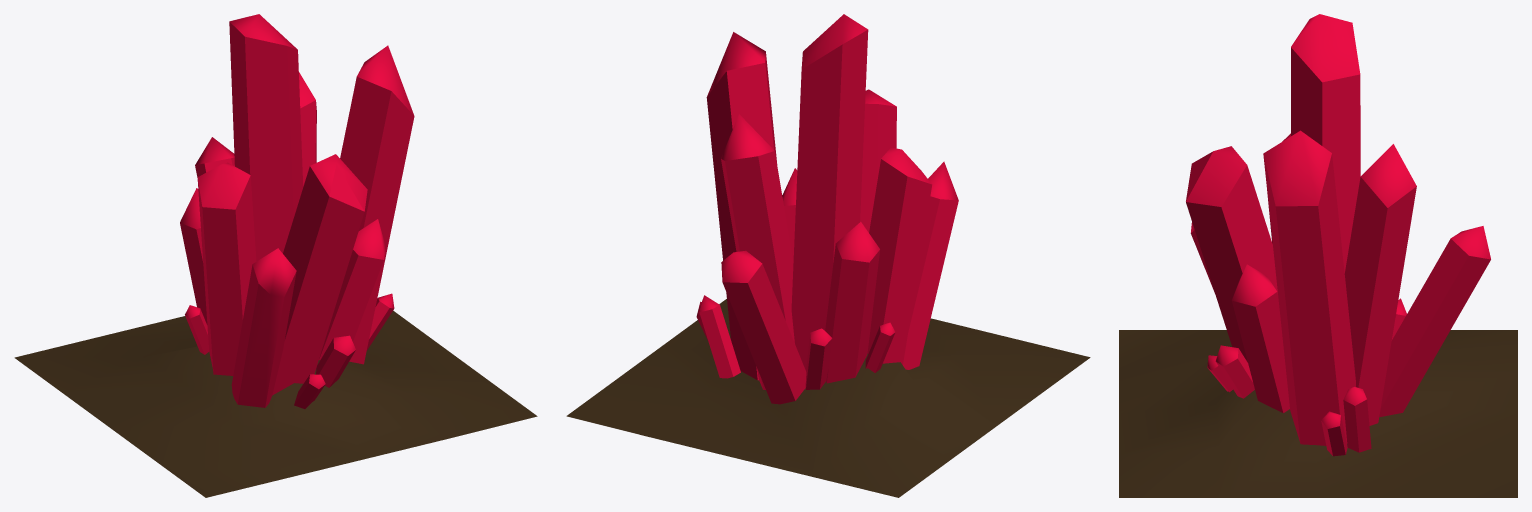
File: Crystal2.fbx
3 views of the same model, side by side, from view 1: azimuth 30°, elevation 25°; view 2: azimuth 150°, elevation 25°; view 3: azimuth 270°, elevation 25° (orthographic). The views are drawn at different scales.
Visible parts, largest first — view 1: kristall2; view 2: kristall2; view 3: kristall2.
Part boxes in pixels (<box>): kristall2: <box>14,14,537,497</box>; kristall2: <box>566,14,1090,497</box>; kristall2: <box>1119,14,1517,497</box>.
Bounding box in the file's own units: 57.08 × 63.51 × 57.08.
